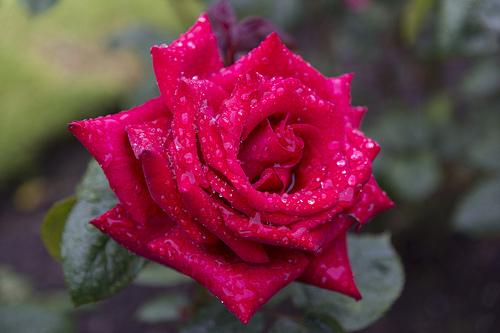Rose: (65, 6, 397, 318)
